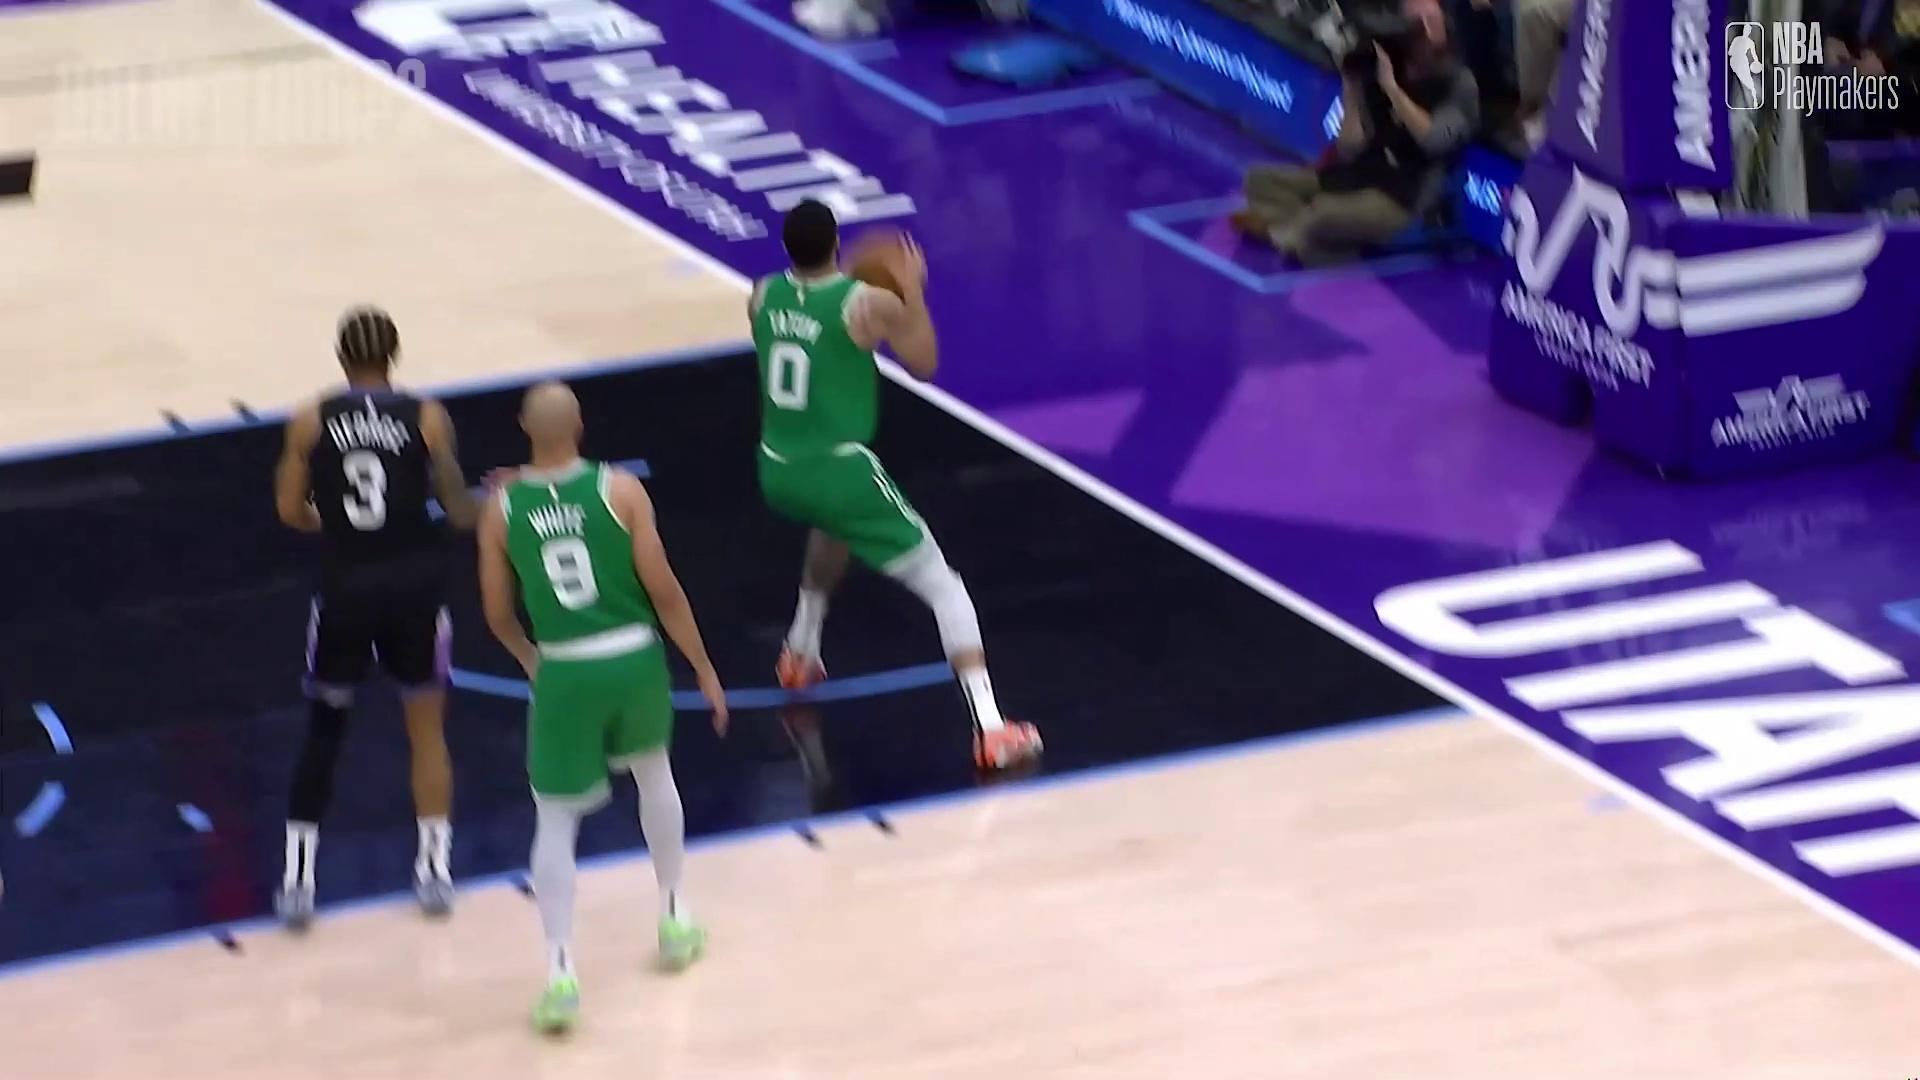ball: (851, 229, 909, 285)
